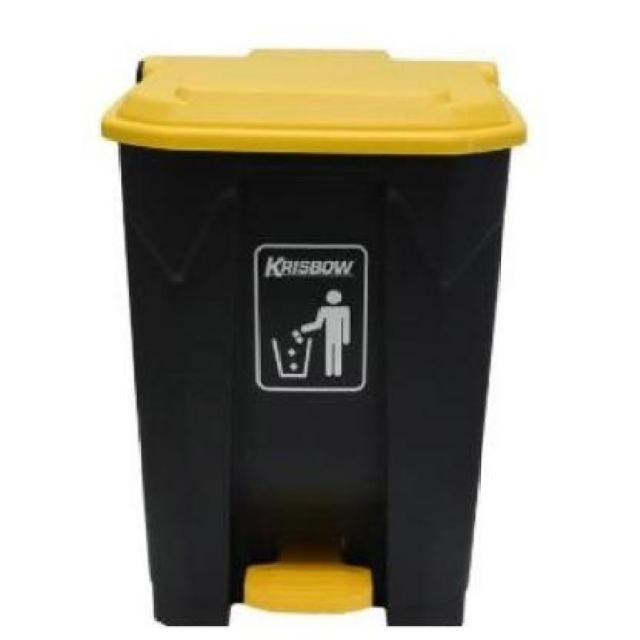garbage container: (43, 35, 540, 640)
